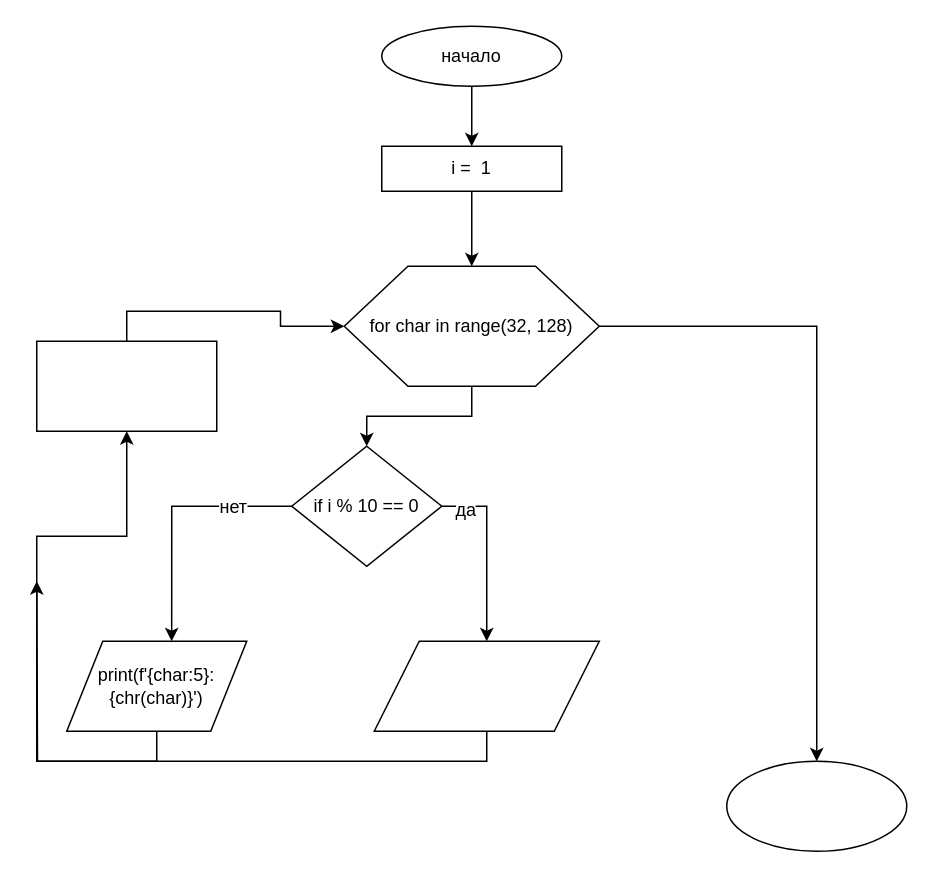
This 933x878 diagram has some shape labels left out. The centre of each missing label's shape, as x and y in pixels:
"i += 1" belongs at pixel 126 385.
"print(f'{char:5}: {chr(char)}', end=' ')" belongs at pixel 486 685.
"конец" belongs at pixel 816 805.
